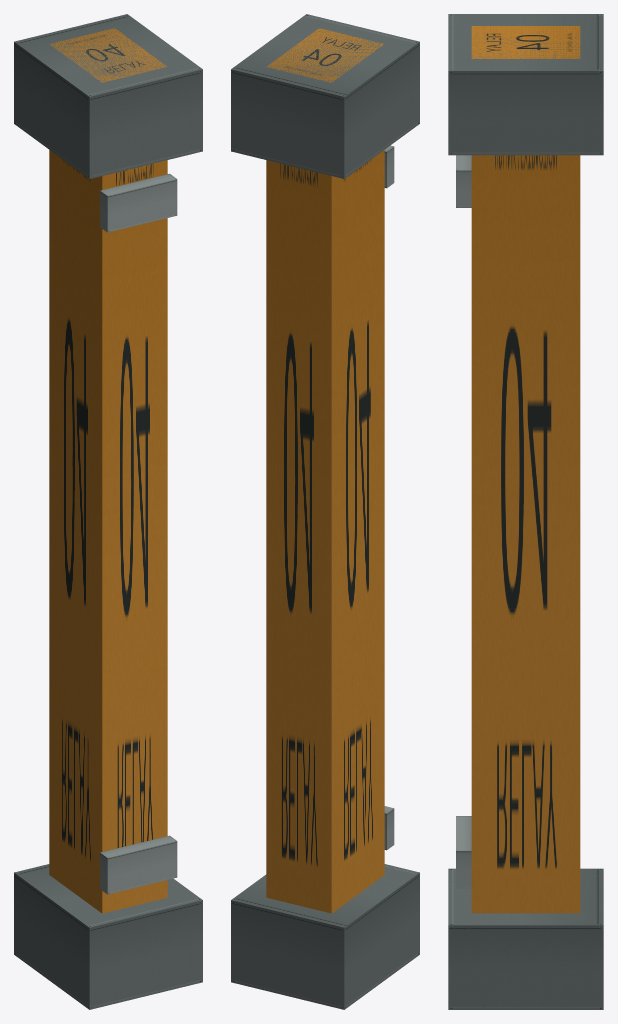
The model's file is column_4m_LOD2.obj.
The picture shows the model from 3 angles, left to right: view 1: azimuth 30°, elevation 25°; view 2: azimuth 150°, elevation 25°; view 3: azimuth 270°, elevation 25°; orthographic projection. The views are drawn at different scales.
Visible parts, largest first — view 1: L02_column_4m_LOD2; view 2: L02_column_4m_LOD2; view 3: L02_column_4m_LOD2.
Part boxes in pixels (x1,y1,x2,y2): L02_column_4m_LOD2: (14, 14, 202, 1009); L02_column_4m_LOD2: (231, 14, 419, 1009); L02_column_4m_LOD2: (448, 14, 603, 1009).
Bounding box in the file's own units: 0.52 × 4 × 0.6.
1 material, 1 textured.
